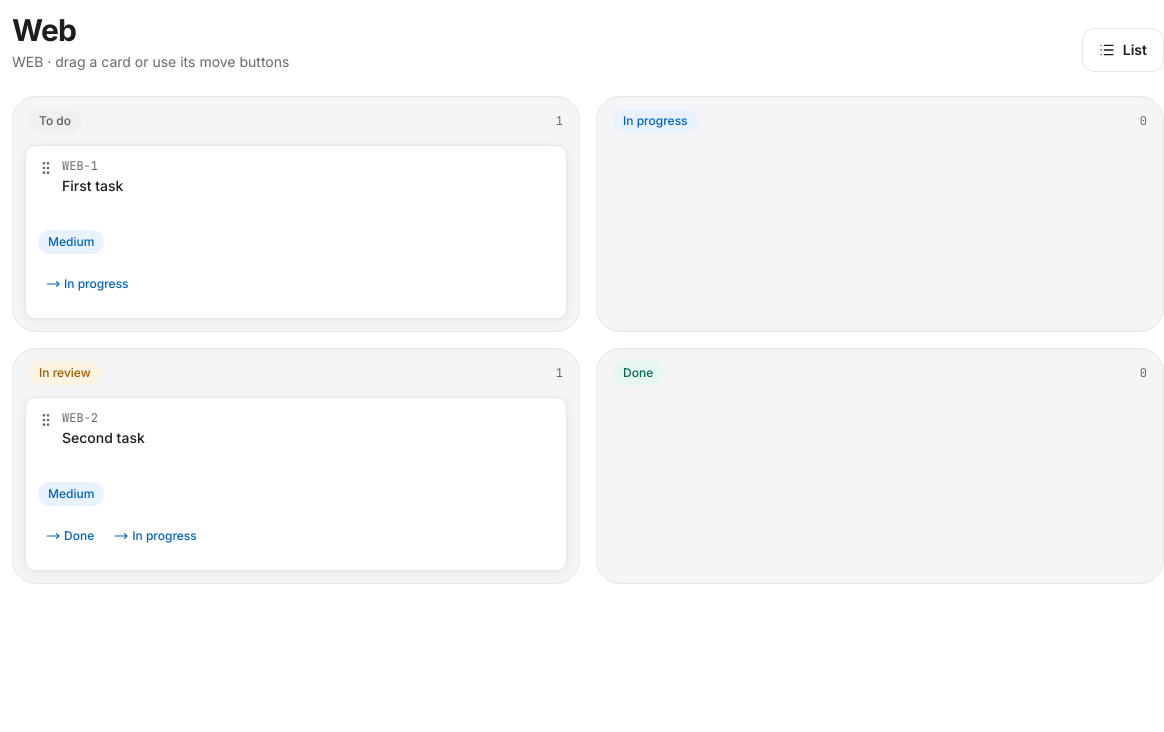
it: board › keeps the card in place when the API rejects the move
Expected: the link "First task" is shown, [62,177,123,194]
# Drive the move through the button rather than a synthetic drag event.
Click the button with aria-label "Move WEB-1 to In progress" at (87, 284), box [38,262,137,306]
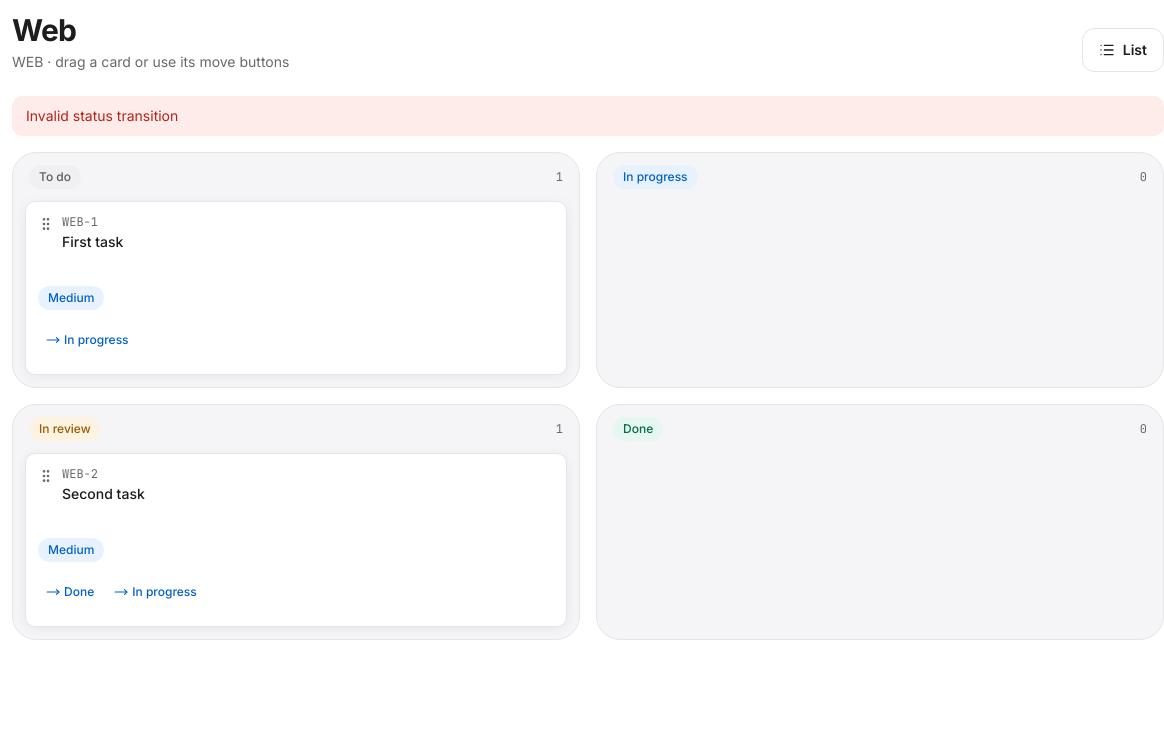
Expected: the link "First task" is shown, [62,233,123,250]
Expected: the message reads "Invalid status transition", [26,107,178,124]
